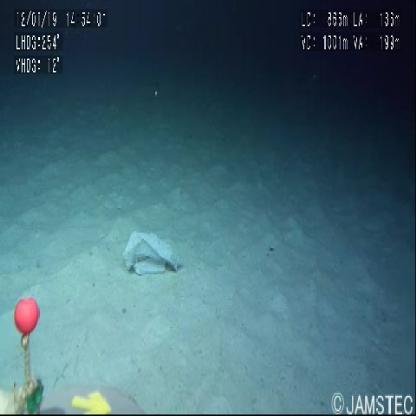Rác: (124, 233, 181, 277)
